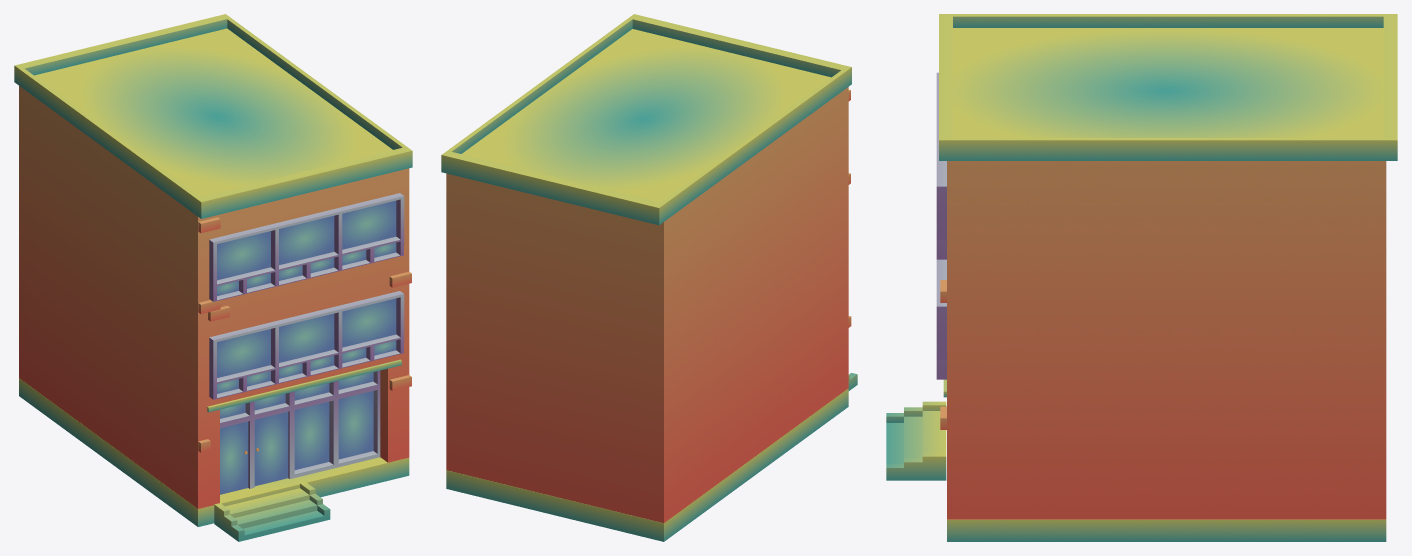
The picture shows the model from 3 angles, left to right: view 1: azimuth 30°, elevation 25°; view 2: azimuth 150°, elevation 25°; view 3: azimuth 270°, elevation 25°; orthographic projection. The views are drawn at different scales.
Visible parts, largest first — view 1: SM_3F_L_02; view 2: SM_3F_L_02; view 3: SM_3F_L_02.
Boxes of the visible parts, x1,y1,x2,y2 form: SM_3F_L_02: (14,14,412,541); SM_3F_L_02: (441,14,857,541); SM_3F_L_02: (886,14,1397,541).
Size of the model in its own units: 7.71 by 13.17 by 11.44.
